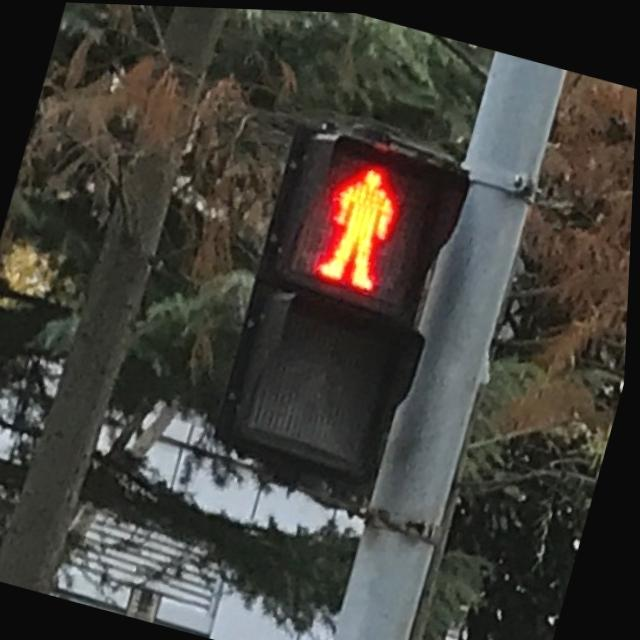red_light: (313, 148, 411, 289)
